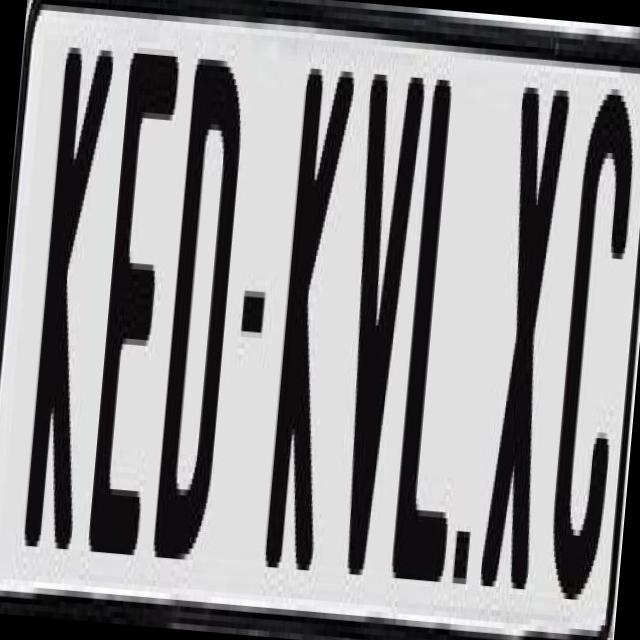C: (543, 69, 633, 583)
D: (154, 41, 255, 544)
E: (86, 35, 186, 550)
K: (23, 46, 118, 550), (263, 50, 353, 553)
L: (390, 67, 486, 571)
V: (328, 73, 429, 577)
X: (479, 81, 574, 595)
